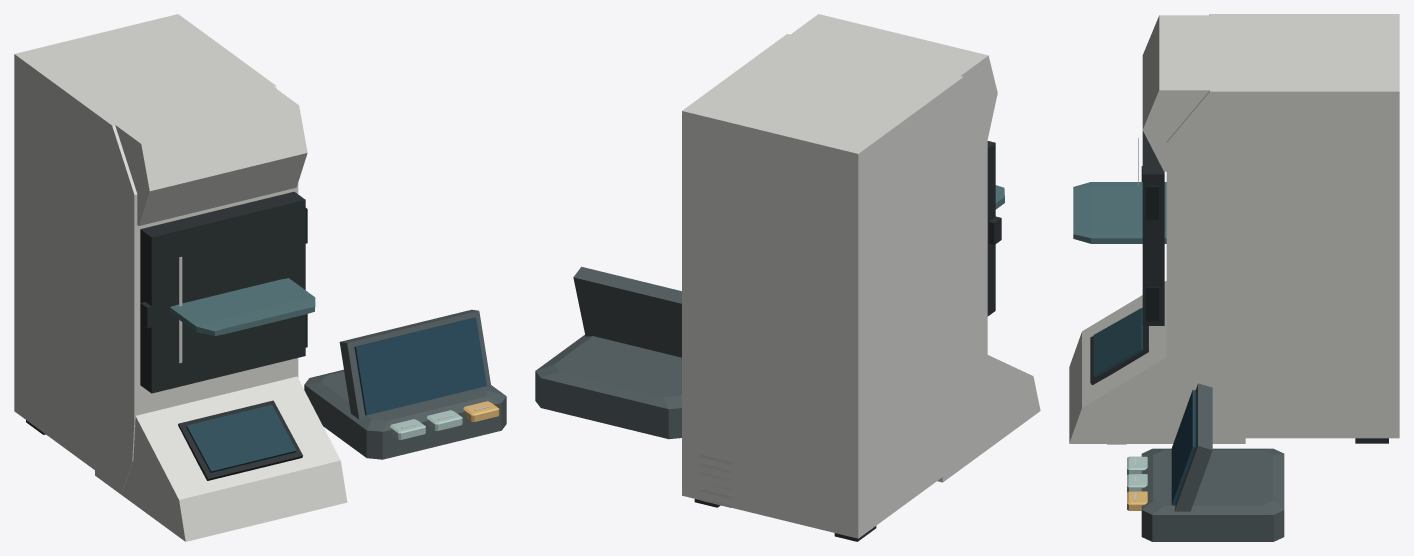
Rendered from ace600-closed.glb.
3 renders of one model, left to right at view 1: azimuth 30°, elevation 25°; view 2: azimuth 150°, elevation 25°; view 3: azimuth 270°, elevation 25°, orthographic. The views are drawn at different scales.
Visible parts, largest first — view 1: Back_and_side_enclosure, Dormant_upper_hood, Glazing_frame_outer, Sloping_control_plinth, Viewer_coupon_map, Viewer_stand, Opaque_glazing_rounded, Dark_touchscreen_inactive, Viewer_display_frame, Dark_touchscreen_bezel; view 2: Back_and_side_enclosure, Dormant_upper_hood, Viewer_stand, Viewer_display_frame, Sloping_control_plinth, Glazing_frame_outer; view 3: Back_and_side_enclosure, Viewer_stand, Sloping_control_plinth, Dormant_upper_hood, Opaque_glazing_rounded, Glazing_frame_outer, Viewer_display_frame, Dark_touchscreen_inactive, Viewer_coupon_map, Dark_touchscreen_bezel, Documentary_hinge_255, Documentary_hinge_437.
Part boxes in pixels (x1=…): Back_and_side_enclosure: x1=14, y1=14, x2=298, y2=490; Dormant_upper_hood: x1=29, y1=23, x2=307, y2=225; Glazing_frame_outer: x1=140, y1=191, x2=305, y2=393; Sloping_control_plinth: x1=95, y1=376, x2=347, y2=541; Viewer_coupon_map: x1=354, y1=317, x2=486, y2=415; Viewer_stand: x1=304, y1=369, x2=506, y2=459; Opaque_glazing_rounded: x1=169, y1=278, x2=315, y2=335; Dark_touchscreen_inactive: x1=186, y1=405, x2=296, y2=472; Viewer_display_frame: x1=339, y1=309, x2=491, y2=419; Dark_touchscreen_bezel: x1=178, y1=400, x2=302, y2=480; Back_and_side_enclosure: x1=682, y1=34, x2=987, y2=538; Dormant_upper_hood: x1=700, y1=14, x2=997, y2=143; Viewer_stand: x1=535, y1=335, x2=681, y2=439; Viewer_display_frame: x1=573, y1=266, x2=681, y2=357; Sloping_control_plinth: x1=937, y1=355, x2=1040, y2=482; Glazing_frame_outer: x1=987, y1=141, x2=995, y2=316; Back_and_side_enclosure: x1=1166, y1=14, x2=1399, y2=438; Viewer_stand: x1=1141, y1=448, x2=1284, y2=541; Sloping_control_plinth: x1=1069, y1=281, x2=1245, y2=443; Dormant_upper_hood: x1=1142, y1=15, x2=1377, y2=171; Opaque_glazing_rounded: x1=1073, y1=182, x2=1166, y2=243; Glazing_frame_outer: x1=1142, y1=131, x2=1164, y2=325; Viewer_display_frame: x1=1174, y1=383, x2=1212, y2=511; Dark_touchscreen_inactive: x1=1093, y1=308, x2=1142, y2=377; Viewer_coupon_map: x1=1171, y1=390, x2=1195, y2=505; Dark_touchscreen_bezel: x1=1090, y1=308, x2=1148, y2=385; Documentary_hinge_255: x1=1146, y1=286, x2=1158, y2=321; Documentary_hinge_437: x1=1146, y1=185, x2=1158, y2=220.
Size of the model in its own units: 0.668 by 0.64 by 0.54.
